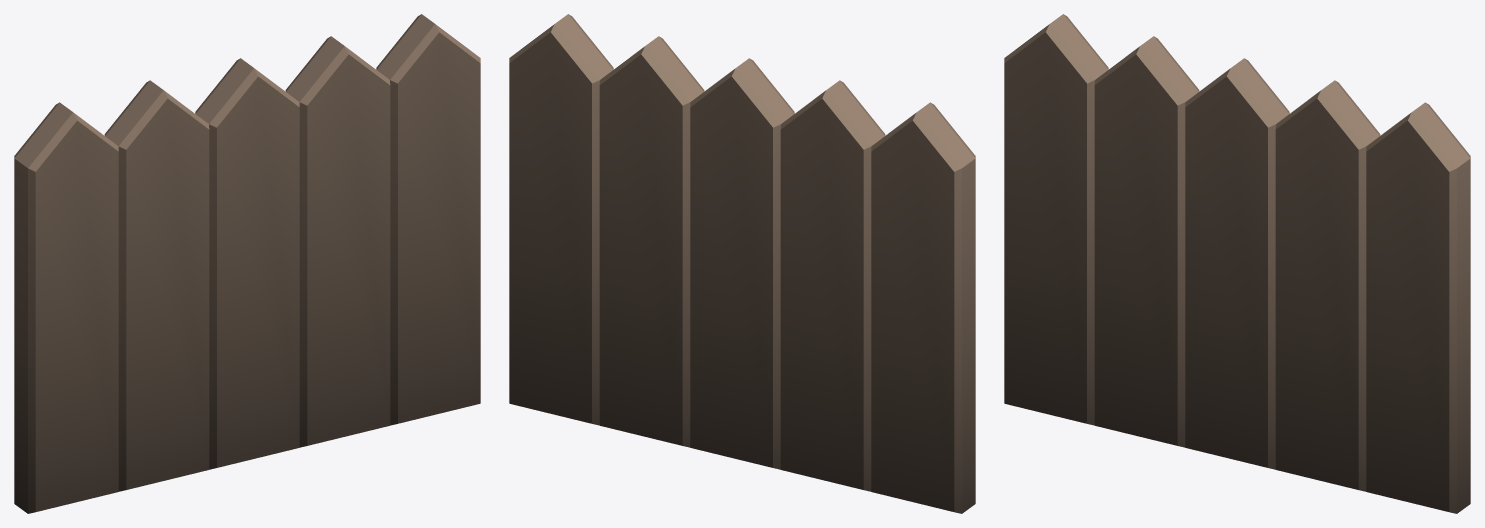
Rendered from wood_wall_1.fbx.
The picture shows the model from 3 angles, left to right: view 1: azimuth 30°, elevation 25°; view 2: azimuth 150°, elevation 25°; view 3: azimuth 330°, elevation 25°; orthographic projection.
Parts seen in each view (by area): view 1: wood_wall_1; view 2: wood_wall_1; view 3: wood_wall_1.
Part boxes in pixels (left/top/right/bottom): wood_wall_1: left=14, top=14, right=480, bottom=513; wood_wall_1: left=509, top=14, right=975, bottom=513; wood_wall_1: left=1004, top=14, right=1470, bottom=513.
Size of the model in its own units: 2 by 0.1653 by 1.65.
